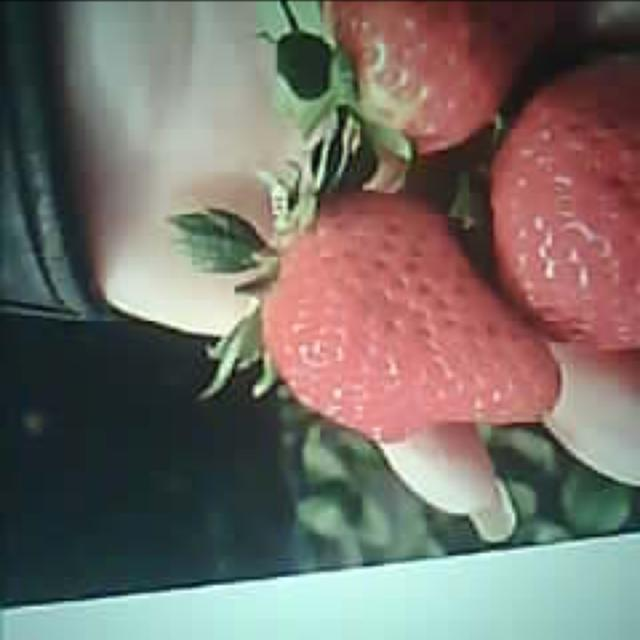strawberry: (258, 186, 556, 428)
